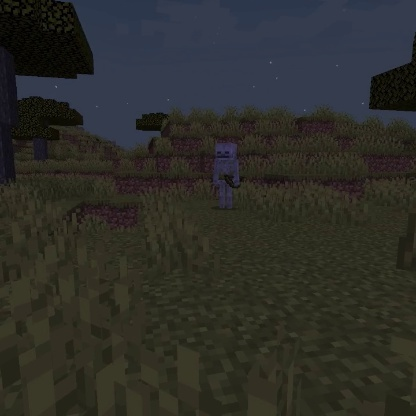skeleton: (208, 140, 246, 212)
